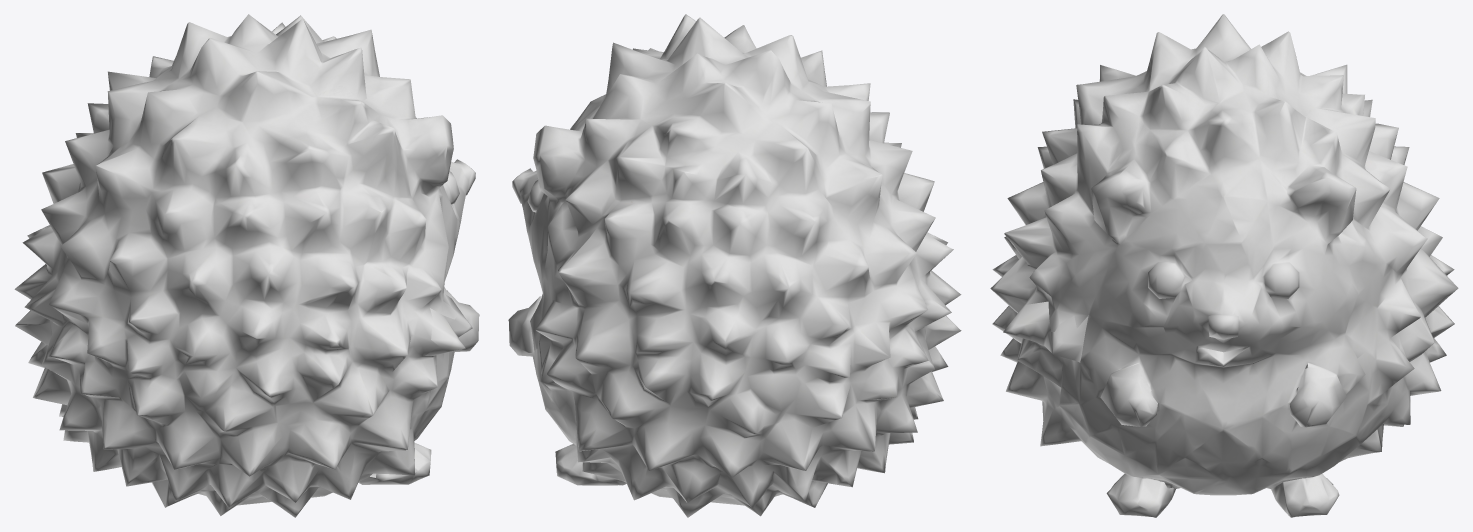
File: statue-即刻.glb
The picture shows the model from 3 angles, left to right: view 1: azimuth 30°, elevation 25°; view 2: azimuth 150°, elevation 25°; view 3: azimuth 270°, elevation 25°; orthographic projection. The views are drawn at different scales.
Visible parts, largest first — view 1: tripo_part_3, tripo_part_0, tripo_part_2, tripo_part_1; view 2: tripo_part_3, tripo_part_4, tripo_part_5; view 3: tripo_part_3, tripo_part_0, tripo_part_1, tripo_part_5, tripo_part_4, tripo_part_2.
Part boxes in pixels (x1=…): tripo_part_3: x1=14, y1=14, x2=475, y2=517; tripo_part_0: x1=425, y1=293, x2=472, y2=355; tripo_part_2: x1=358, y1=442, x2=431, y2=484; tripo_part_1: x1=447, y1=290, x2=479, y2=351; tripo_part_3: x1=512, y1=14, x2=961, y2=517; tripo_part_4: x1=555, y1=444, x2=626, y2=485; tripo_part_5: x1=508, y1=296, x2=541, y2=356; tripo_part_3: x1=990, y1=14, x2=1458, y2=495; tripo_part_0: x1=1003, y1=301, x2=1088, y2=362; tripo_part_1: x1=1100, y1=363, x2=1159, y2=426; tripo_part_5: x1=1290, y1=362, x2=1346, y2=427; tripo_part_4: x1=1271, y1=473, x2=1339, y2=517; tripo_part_2: x1=1106, y1=474, x2=1175, y2=517.
Bounding box in the file's own units: 0.9937 × 0.9998 × 0.9852.
Materials: 6 (6 with a texture image).
